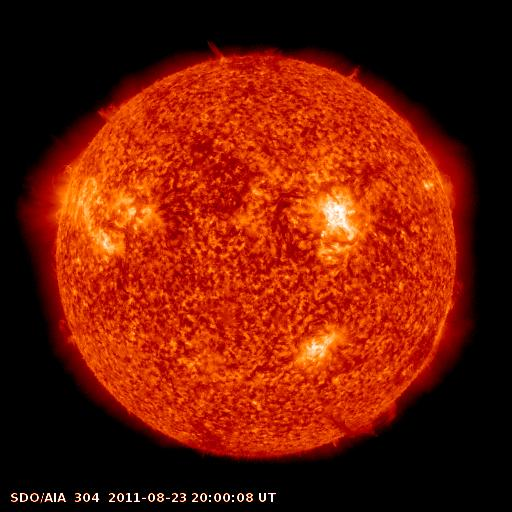prominence: (325, 397, 409, 444), (49, 313, 86, 348), (198, 37, 238, 68), (94, 93, 126, 128), (340, 59, 367, 87)
